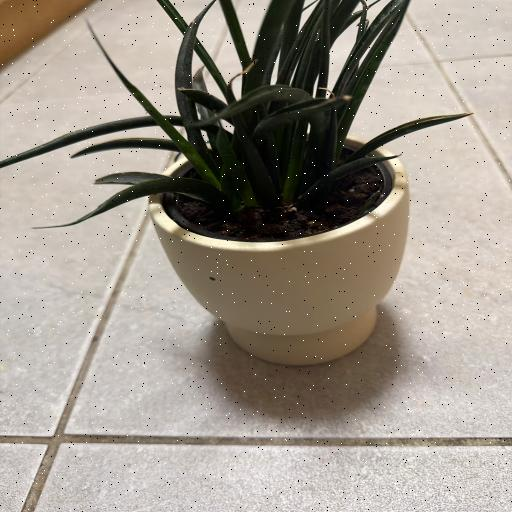Plant Pot: (149, 136, 415, 366)
